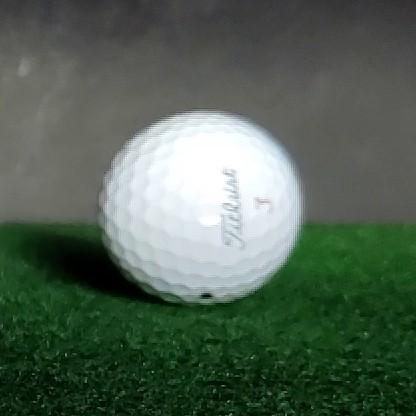golfball: (97, 110, 303, 303)
